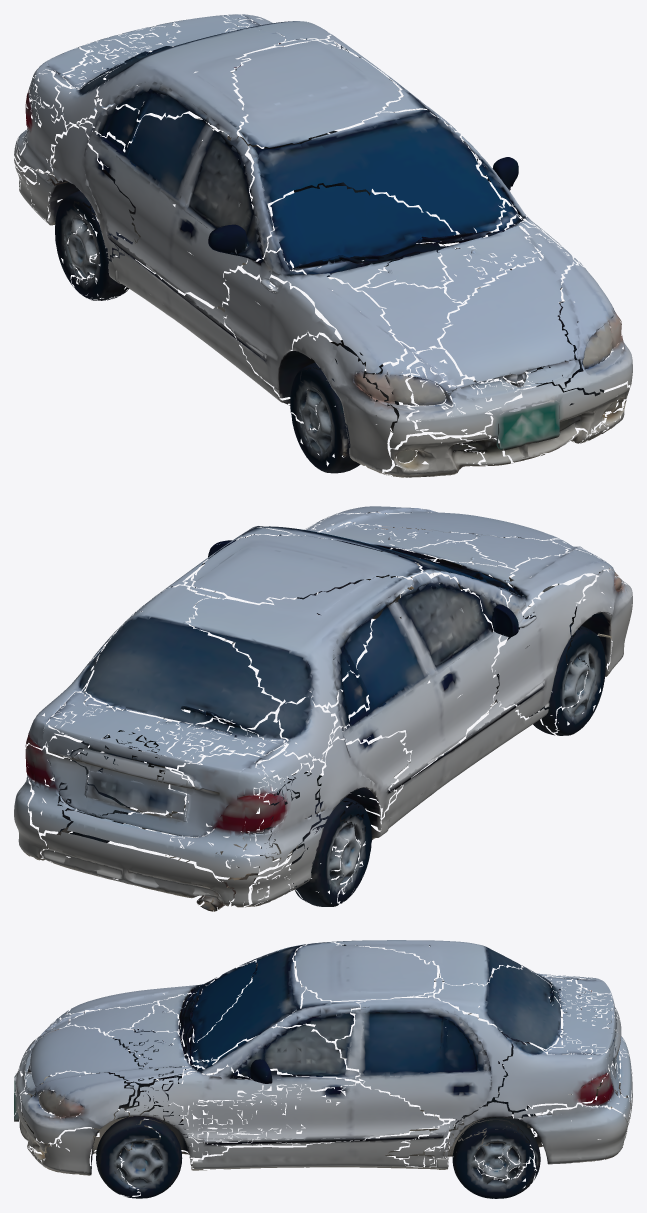
Rendered from accent.glb.
3 renders of one model, top to bottom at view 1: azimuth 30°, elevation 25°; view 2: azimuth 150°, elevation 25°; view 3: azimuth 270°, elevation 25°, orthographic. The views are drawn at different scales.
Parts seen in each view (by area): view 1: body_q, wFR_q, wRR_q; view 2: body_q, wRR_q, wFR_q, wRL_q; view 3: body_q, wFL_q, wRL_q, wFR_q.
Part boxes in pixels (box(x1,y1,x2,y2)): body_q: box(14, 14, 632, 477); wFR_q: box(290, 362, 360, 473); wRR_q: box(55, 190, 135, 300); body_q: box(14, 506, 632, 911); wRR_q: box(291, 793, 381, 906); wFR_q: box(529, 624, 611, 735); wRL_q: box(57, 734, 143, 842); body_q: box(14, 940, 632, 1175); wFL_q: box(91, 1115, 182, 1198); wRL_q: box(448, 1117, 540, 1198); wFR_q: box(91, 1029, 182, 1110).
Size of the model in its own units: 1.8 by 1.35 by 4.12.
